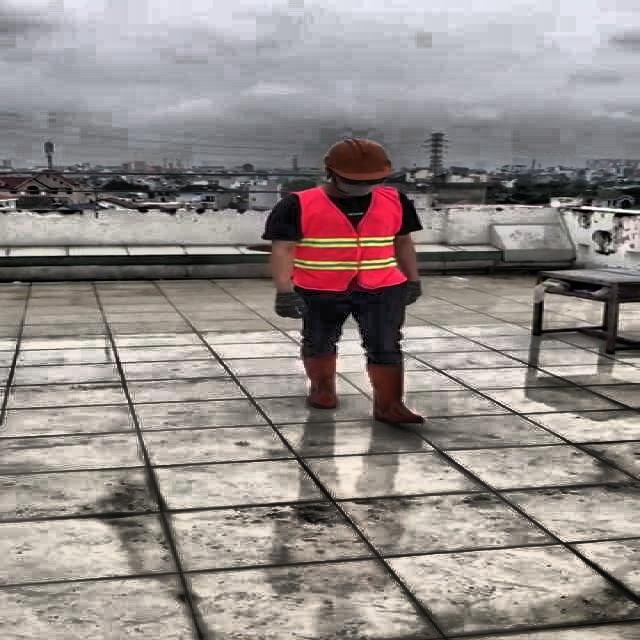safety_helmet: (321, 136, 398, 182)
safety_jacket: (288, 188, 407, 288)
